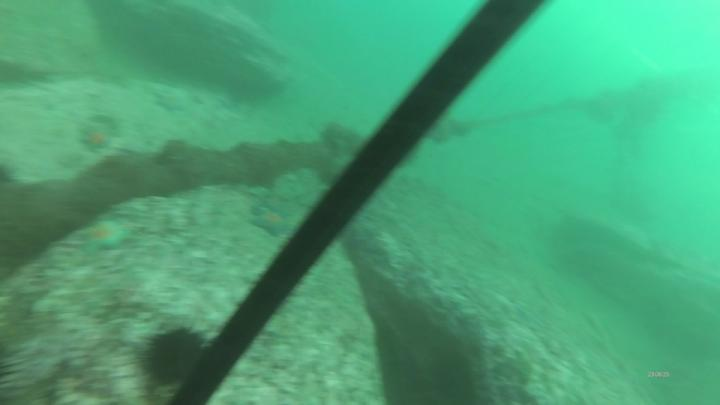echinus: (132, 317, 214, 391)
starfish: (81, 215, 136, 257), (252, 203, 295, 240), (80, 127, 115, 154)
